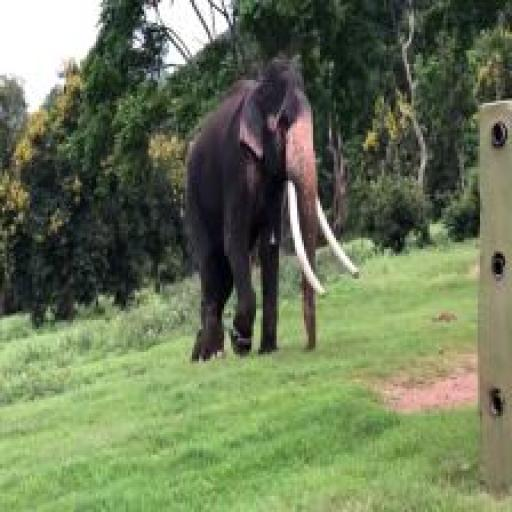Elephant: (181, 53, 362, 370)
